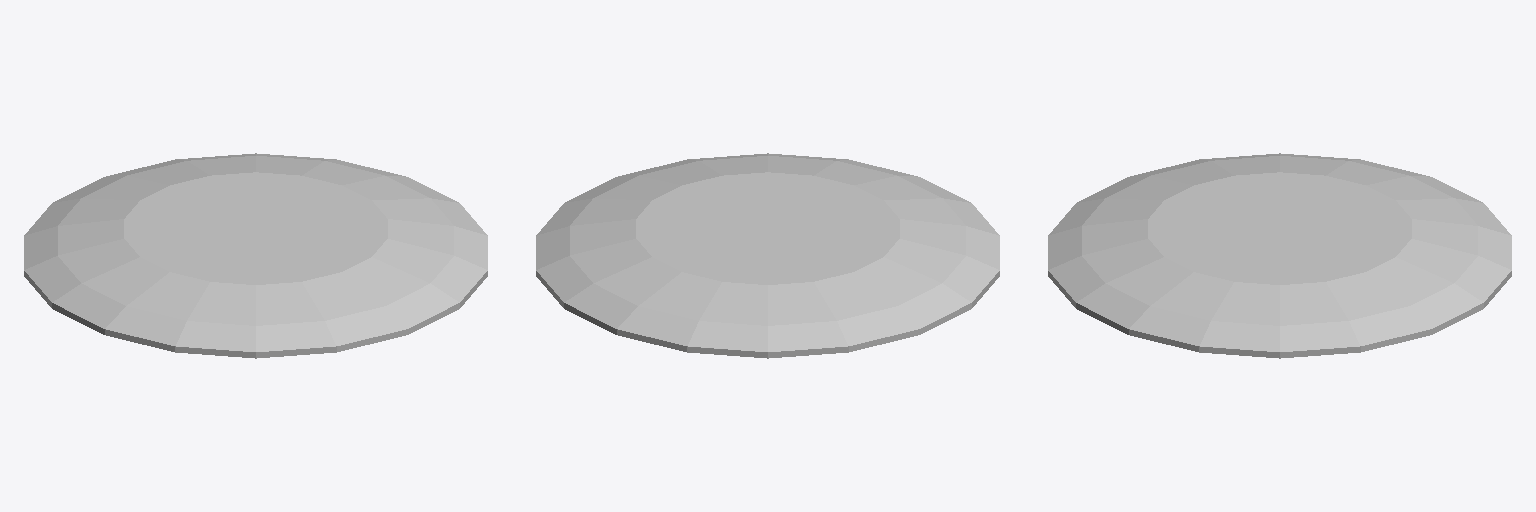
Rendered from UFO.obj.
The picture shows the model from 3 angles: view 1: azimuth 30°, elevation 25°; view 2: azimuth 150°, elevation 25°; view 3: azimuth 270°, elevation 25°; orthographic projection.
Visible parts, largest first — view 1: Cylinder001; view 2: Cylinder001; view 3: Cylinder001.
Boxes of the visible parts, x1,y1,x2,y2 form: Cylinder001: [24, 153, 487, 358]; Cylinder001: [536, 153, 999, 358]; Cylinder001: [1048, 153, 1511, 358].
Size of the model in its own units: 35.23 by 4.5 by 34.7.